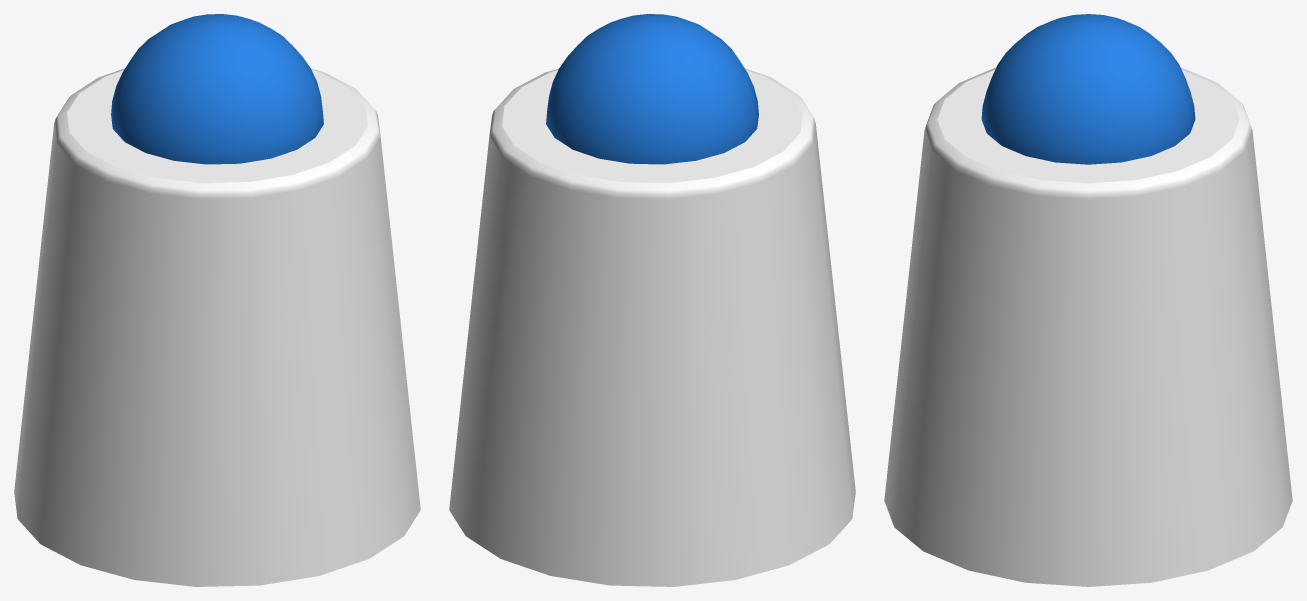
Rendered from HouseCylinder.fbx.
3 views of the same model, side by side, from view 1: azimuth 30°, elevation 25°; view 2: azimuth 150°, elevation 25°; view 3: azimuth 270°, elevation 25° (orthographic).
Parts seen in each view (by area): view 1: HouseCylinder1, HouseCylinder2; view 2: HouseCylinder1, HouseCylinder2; view 3: HouseCylinder1, HouseCylinder2.
Boxes of the visible parts, x1,y1,x2,y2 form: HouseCylinder1: [14, 68, 420, 586]; HouseCylinder2: [111, 14, 323, 164]; HouseCylinder1: [449, 68, 855, 586]; HouseCylinder2: [546, 14, 758, 164]; HouseCylinder1: [884, 67, 1292, 586]; HouseCylinder2: [981, 14, 1195, 164].
Size of the model in its own units: 10.15 by 13.07 by 10.15.
Materials: 1 (1 with a texture image).
